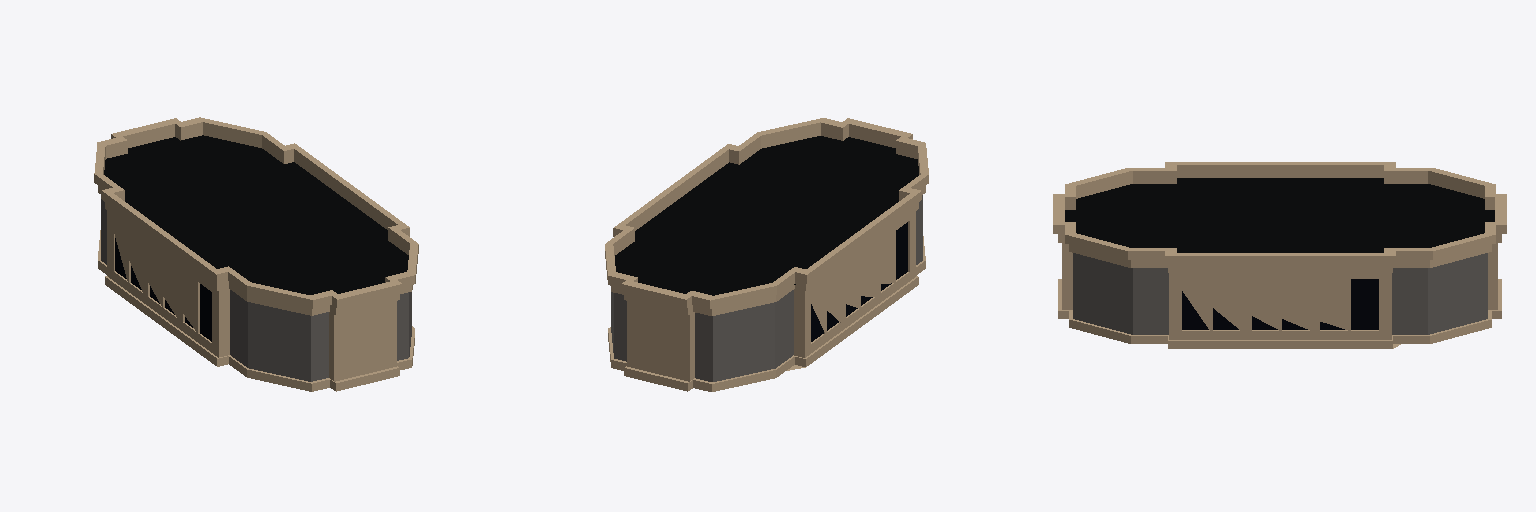
The model's file is buildingC1.obj.
The picture shows the model from 3 angles: view 1: azimuth 30°, elevation 25°; view 2: azimuth 150°, elevation 25°; view 3: azimuth 270°, elevation 25°; orthographic projection.
Visible parts, largest first — view 1: Cube.003_Cube.009; view 2: Cube.003_Cube.009; view 3: Cube.003_Cube.009.
Boxes of the visible parts, x1,y1,x2,y2 form: Cube.003_Cube.009: [94, 117, 418, 391]; Cube.003_Cube.009: [605, 118, 928, 391]; Cube.003_Cube.009: [1053, 162, 1506, 348].
Bounding box in the file's own units: 7.18 × 3.33 × 14.57.